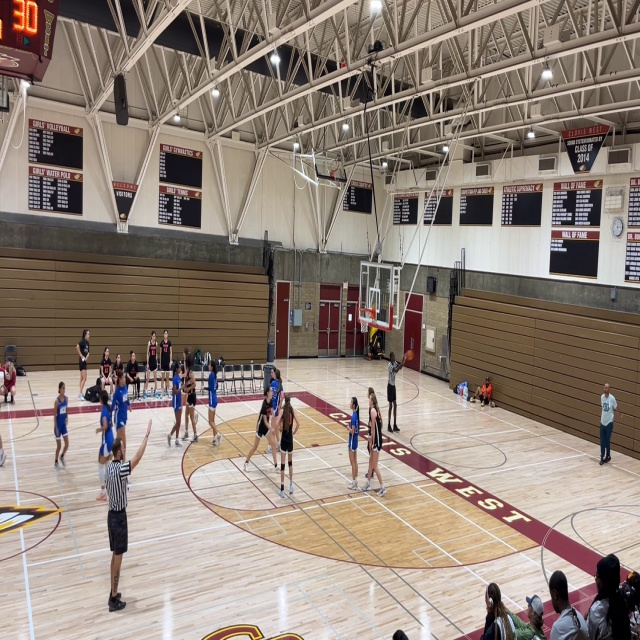Basketball: (405, 350, 414, 361)
